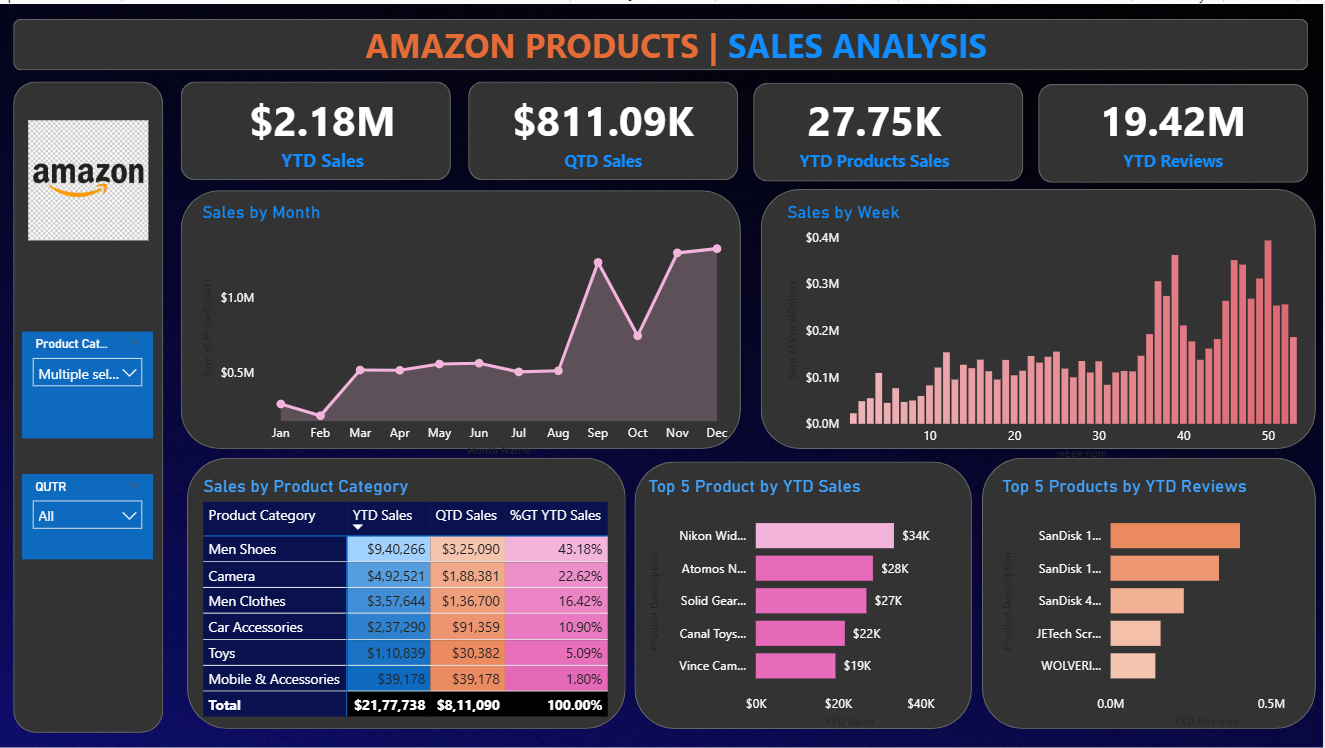

The dashboard page shown, as its layout file describes it:
{"tool":"powerbi","page":{"name":"Page 1","canvas":[1280,720],"ordinal":0},"visuals":[{"type":"shape","box":[15.7,14.5,1249.9,49.5],"z":0},{"type":"textbox","box":[334.2,13.3,643,54.3],"z":1000},{"type":"shape","box":[15.7,74.8,144.8,628.6],"z":2000},{"type":"shape","box":[177.3,74.8,260.6,95.3],"z":3000},{"type":"shape","box":[454.8,74.8,260.6,95.3],"z":4000},{"type":"shape","box":[729.9,76,260.6,95.3],"z":5000},{"type":"shape","box":[1005,77.2,260.6,95.3],"z":6000},{"type":"card","fields":{"Values":["Amazon_Data.YTD Sales"]},"box":[183.4,74.8,261.8,95.3],"z":7000},{"type":"card","fields":{"Values":["Amazon_Data.QTD Sales"]},"box":[454.8,74.8,260.6,95.3],"z":8000},{"type":"card","fields":{"Values":["Amazon_Data.YTD Products Sales"]},"box":[716.6,74.8,260.6,95.3],"z":9000},{"type":"card","fields":{"Values":["Amazon_Data.YTD Reviews"]},"box":[1005,74.8,260.6,95.3],"z":10000},{"type":"shape","box":[177.3,179.8,540.5,249.7],"z":11000},{"type":"shape","box":[737.1,178.6,535.7,250.9],"z":12000},{"type":"columnChart","title":"Sales by Week","fields":{"Category":["Date Table.week num"],"Y":["Sum(Amazon_Data.Price(Dollar))"]},"box":[757.6,190.6,522.4,254.6],"z":13000},{"type":"areaChart","title":"Sales by Month","fields":{"Category":["Date Table.Month Name"],"Y":["Sum(Amazon_Data.Price(Dollar))"]},"box":[193,190.6,522.4,250.9],"z":14000},{"type":"shape","box":[183.4,437.9,423.5,261.8],"z":15000},{"type":"pivotTable","title":"Sales by Product Category","fields":{"Rows":["Amazon_Data.Product Category"],"Values":["Amazon_Data.YTD Sales","Amazon_Data.QTD Sales","Divide(Amazon_Data.YTD Sales, ScopedEval(Amazon_Data.YTD Sales, []))"]},"box":[194.2,454.8,412.6,248.5],"z":16000},{"type":"shape","box":[615.3,441.6,325.7,258.2],"z":17000},{"type":"shape","box":[950.7,437.9,322.1,261.8],"z":18000},{"type":"clusteredBarChart","title":"Top 5 Product by YTD Sales ","fields":{"Category":["Amazon_Data.Product Description"],"Y":["Amazon_Data.YTD Sales"]},"box":[623.7,454.8,310.1,248.5],"z":19000},{"type":"clusteredBarChart","title":"Top 5 Products by YTD Reviews ","fields":{"Category":["Amazon_Data.Product Description"],"Y":["Amazon_Data.YTD Reviews"]},"box":[965.2,454.8,314.9,248.5],"z":20000},{"type":"slicer","fields":{"Values":["Amazon_Data.Product Category"]},"box":[24.7,315.6,126.2,102.9],"z":21000},{"type":"slicer","fields":{"Values":["Date Table.QUTR"]},"box":[24.7,454.2,126.2,82.3],"z":22000},{"type":"image","box":[20.5,112.2,135.1,115.8],"z":23000}]}

Visuals, with their boxes in screenshot pixels (x1, y1, x2, y2), scaled from the page's 1280x720 canvas onto the 1325x748 screenshot:
shape: <box>16,15,1310,66</box>
textbox: <box>346,14,1012,70</box>
shape: <box>16,78,166,731</box>
shape: <box>184,78,453,177</box>
shape: <box>471,78,741,177</box>
shape: <box>756,79,1025,178</box>
shape: <box>1040,80,1310,179</box>
card - Amazon_Data.YTD Sales: <box>190,78,461,177</box>
card - Amazon_Data.QTD Sales: <box>471,78,741,177</box>
card - Amazon_Data.YTD Products Sales: <box>742,78,1012,177</box>
card - Amazon_Data.YTD Reviews: <box>1040,78,1310,177</box>
shape: <box>184,187,743,446</box>
shape: <box>763,186,1318,446</box>
"Sales by Week" columnChart: <box>784,198,1324,463</box>
"Sales by Month" areaChart: <box>200,198,741,459</box>
shape: <box>190,455,628,727</box>
"Sales by Product Category" pivotTable: <box>201,472,628,731</box>
shape: <box>637,459,974,727</box>
shape: <box>984,455,1318,727</box>
"Top 5 Product by YTD Sales " clusteredBarChart: <box>646,472,967,731</box>
"Top 5 Products by YTD Reviews " clusteredBarChart: <box>999,472,1324,731</box>
slicer - Amazon_Data.Product Category: <box>26,328,156,435</box>
slicer - Date Table.QUTR: <box>26,472,156,557</box>
image: <box>21,117,161,237</box>
